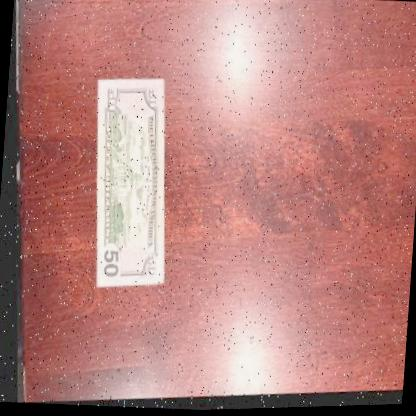fifty-back: (78, 76, 173, 295)
